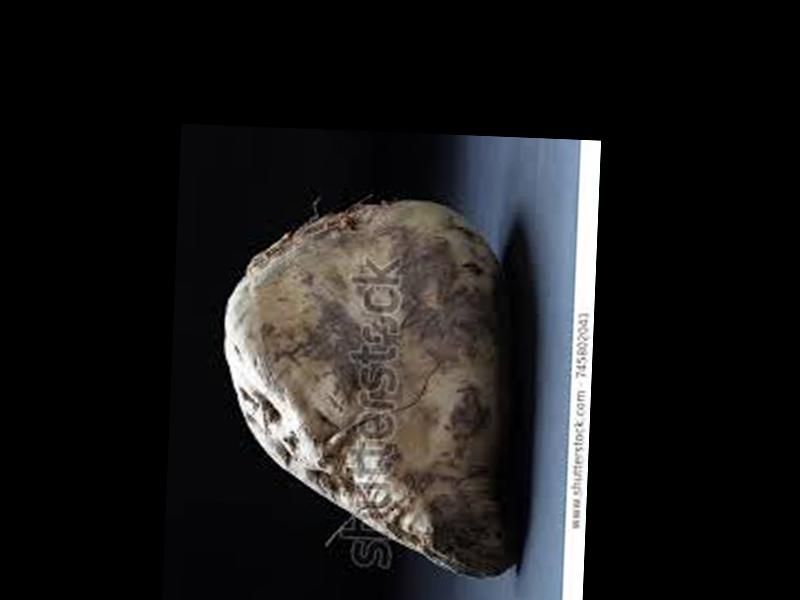Beet: (217, 188, 527, 573)
